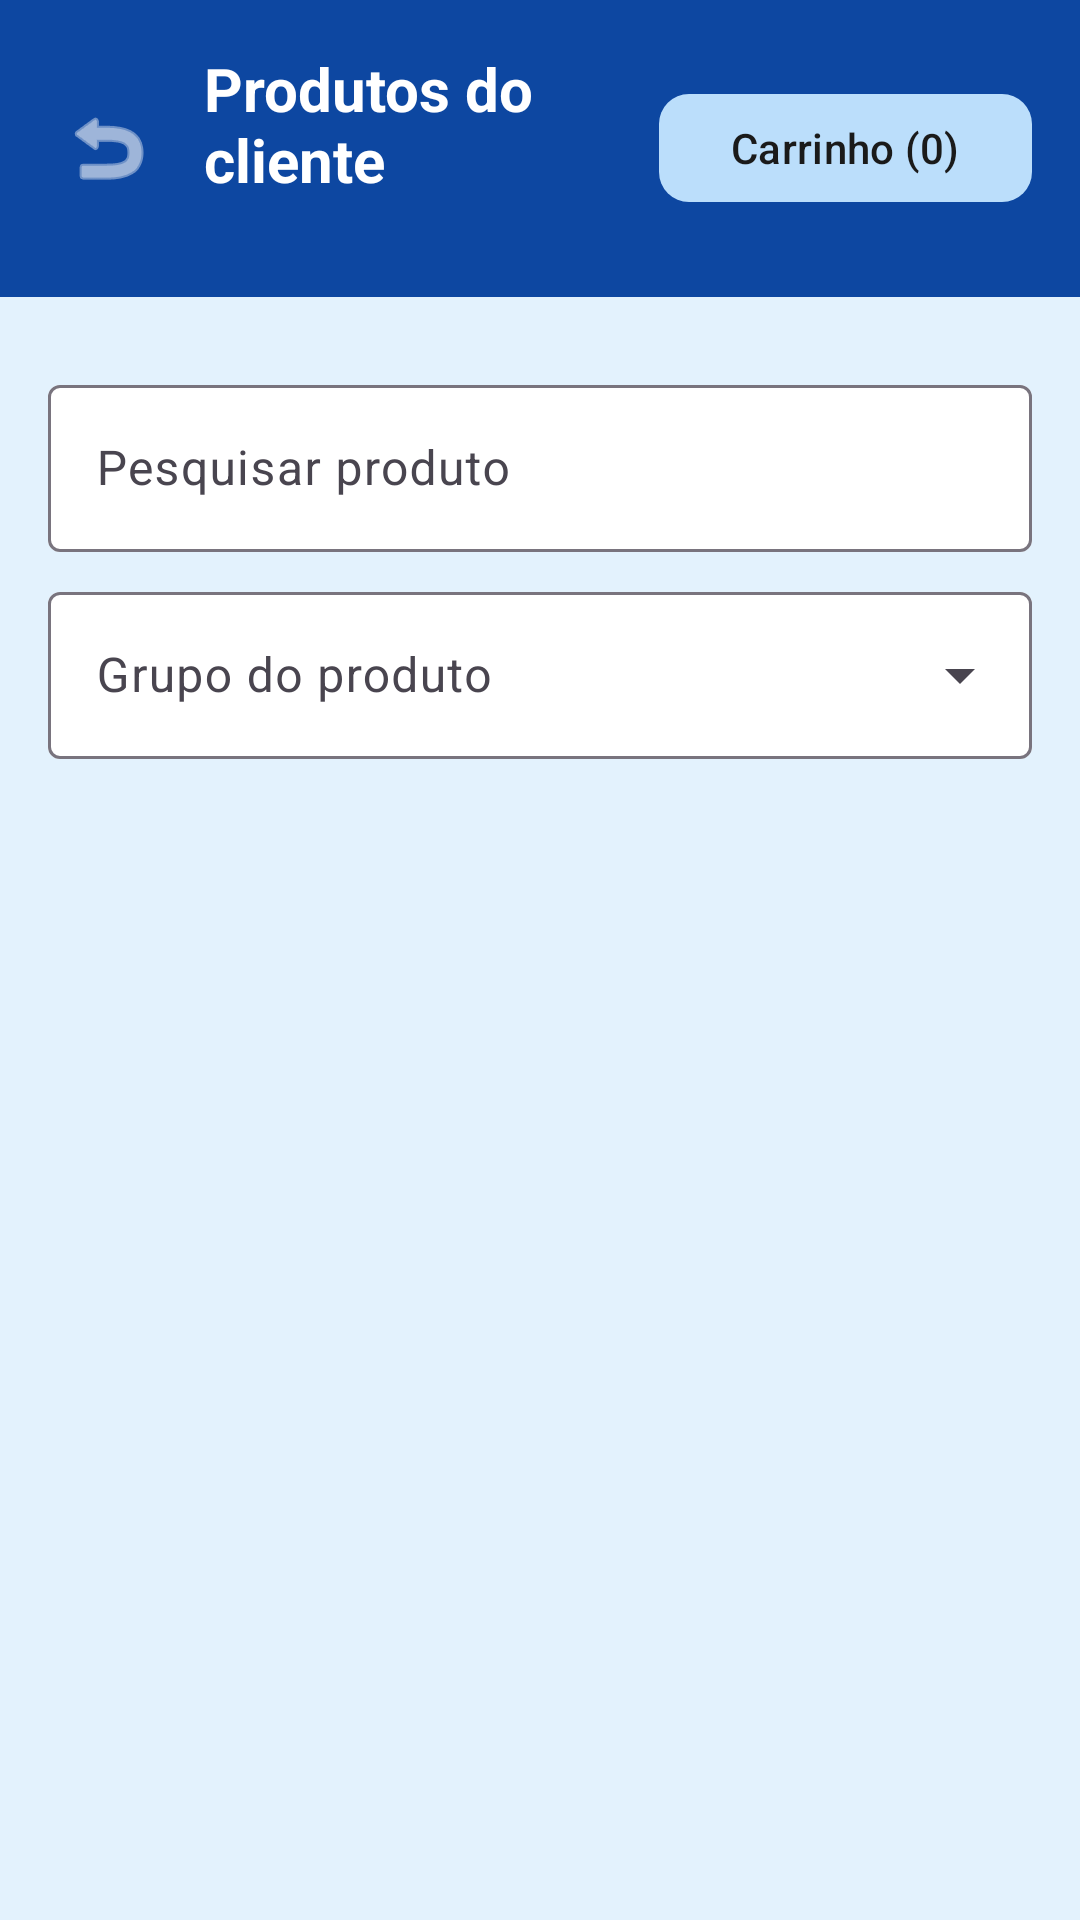

Screen size 1080×1920. Icon name, then its box in pixels as [left=x1, top=y1, right=x2, bottom=y2]:
Voltar: [left=75, top=117, right=144, bottom=180]
